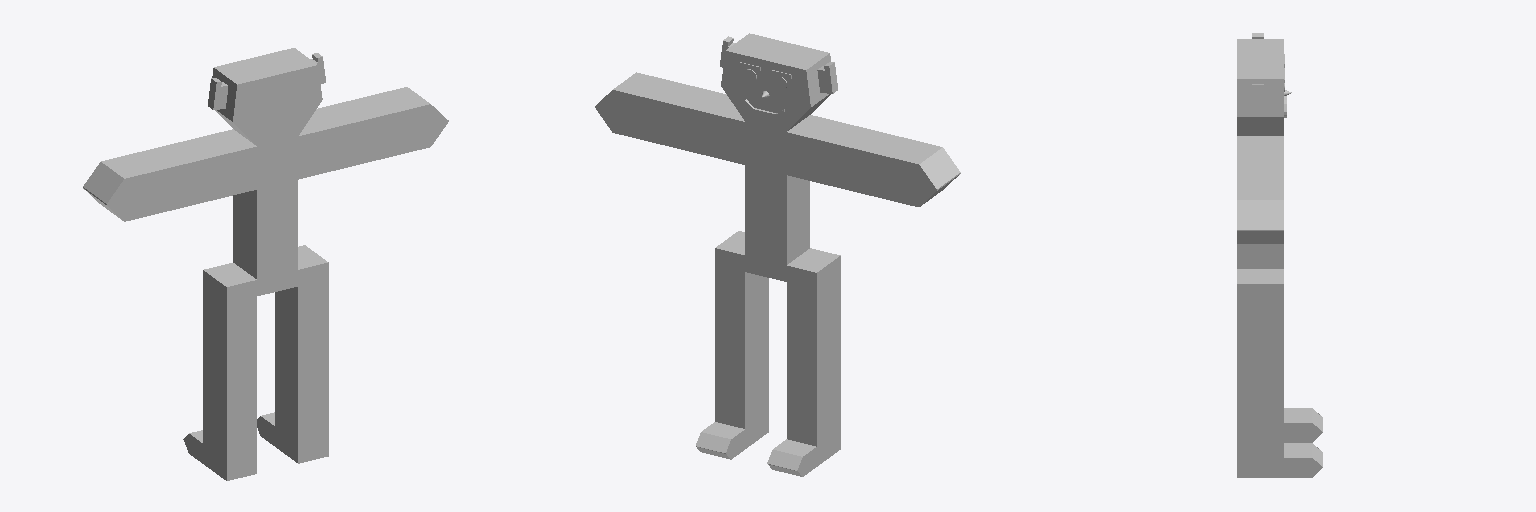
File: person.obj
3 views of the same model, side by side, from view 1: azimuth 30°, elevation 25°; view 2: azimuth 150°, elevation 25°; view 3: azimuth 270°, elevation 25° (orthographic).
Parts seen in each view (by area): view 1: Cube; view 2: Cube; view 3: Cube.
Boxes of the visible parts, x1=… form: Cube: x1=83, y1=48, x2=448, y2=480; Cube: x1=595, y1=33, x2=960, y2=476; Cube: x1=1237, y1=33, x2=1322, y2=477.
Size of the model in its own units: 16.6 by 18.28 by 3.65.